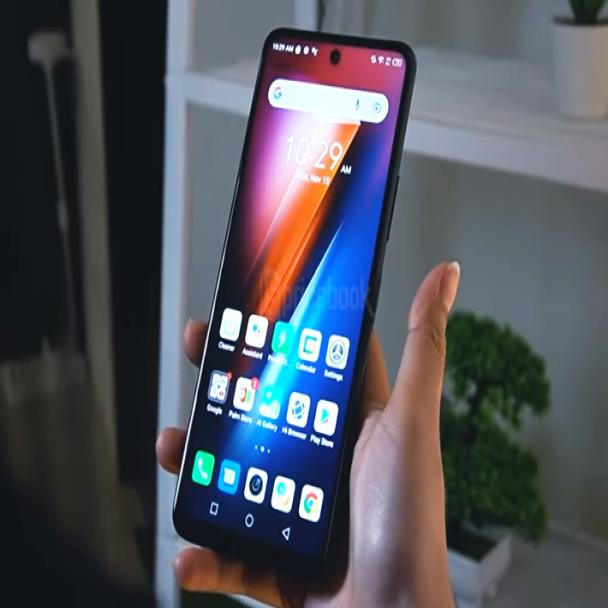Handphone: (164, 23, 423, 588)
